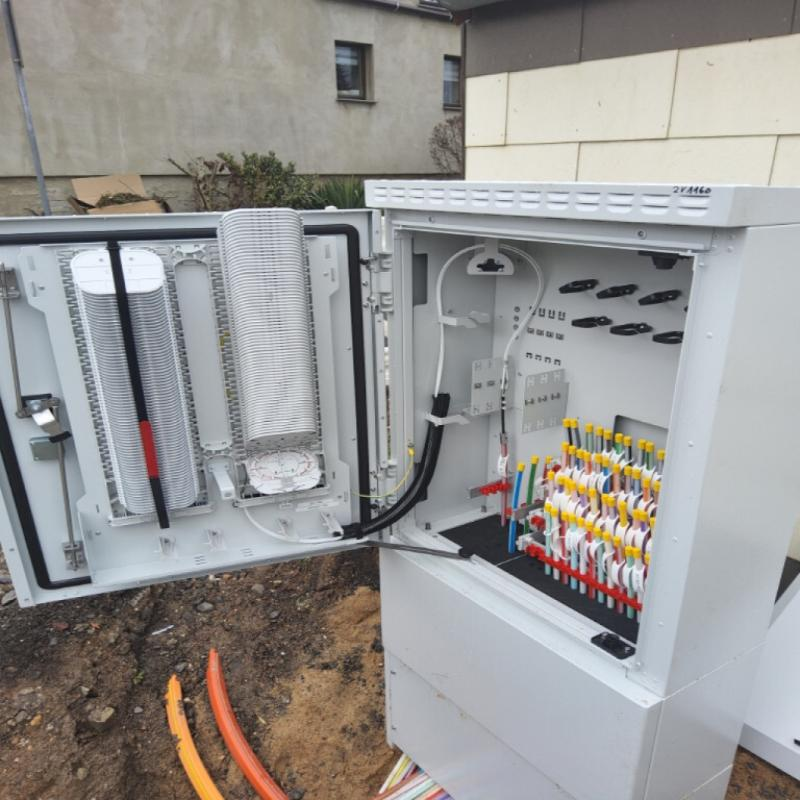NT-Gehause: (0, 180, 800, 800)
Orang-Speednetrohrchen: (206, 650, 288, 798), (165, 678, 224, 800)
Spleiskassetten: (56, 242, 206, 523), (209, 202, 335, 504)
